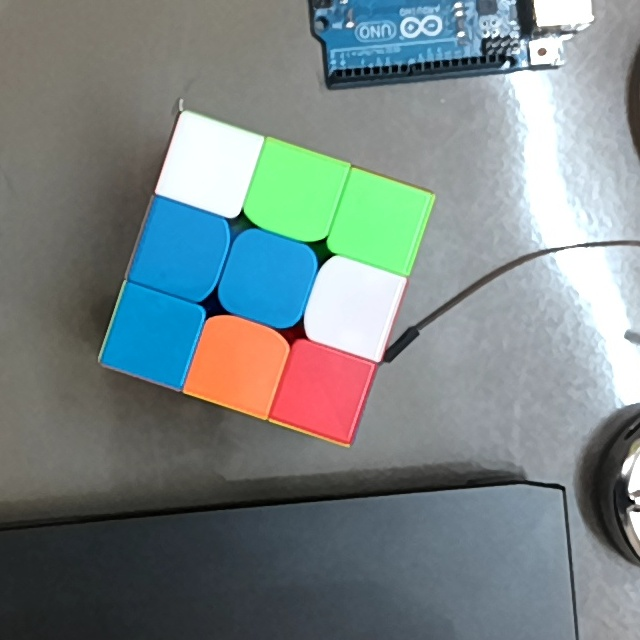tile: (149, 216, 213, 284), (235, 248, 299, 315), (264, 161, 328, 226), (207, 331, 272, 395), (348, 190, 414, 253), (323, 273, 386, 336), (176, 138, 242, 197), (120, 305, 182, 366), (292, 358, 354, 419)
